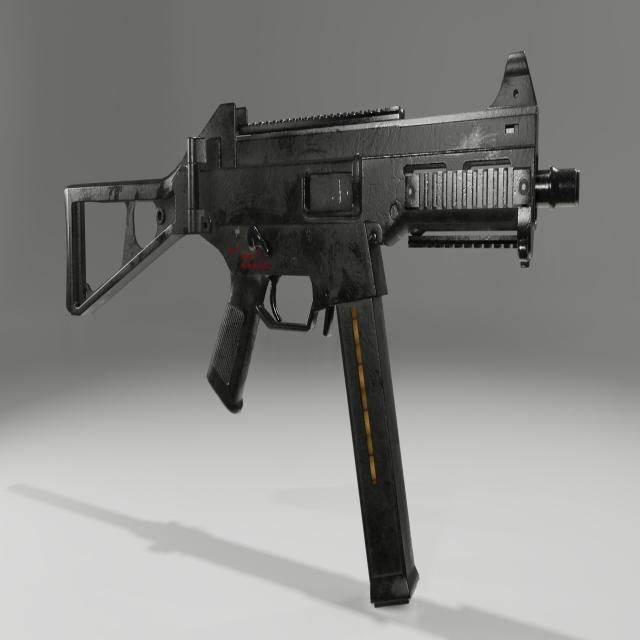Gun: (60, 91, 584, 612)
